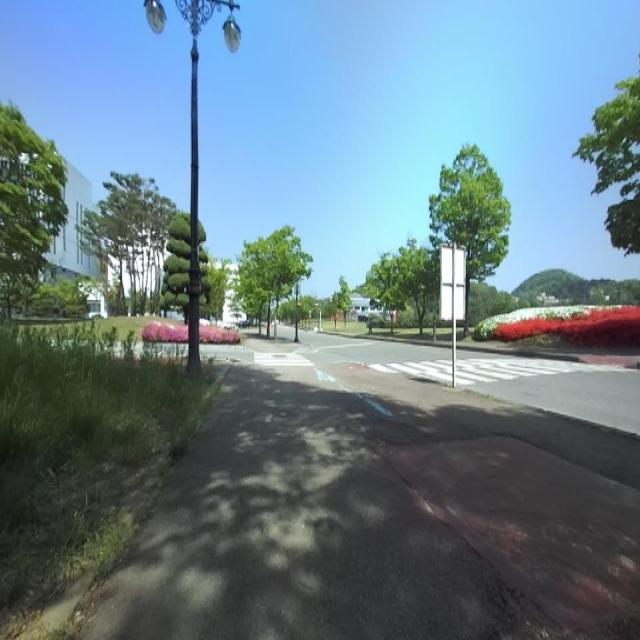sidewalk: (82, 364, 640, 639)
